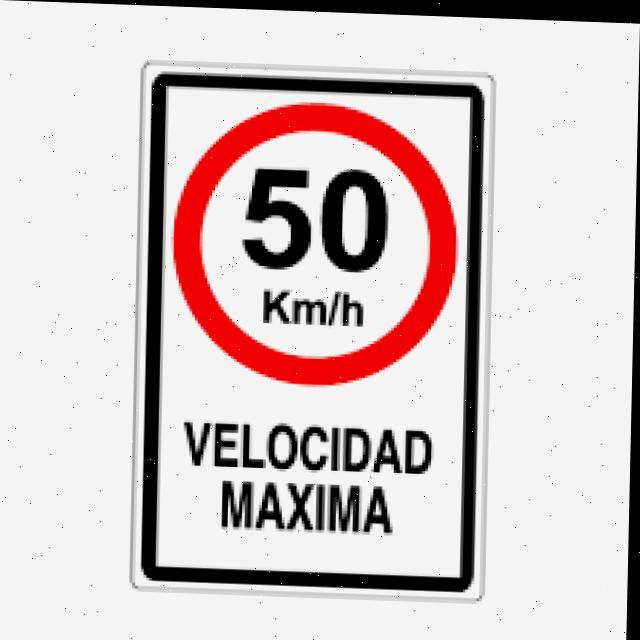Speed limit 50: (168, 91, 463, 387)
